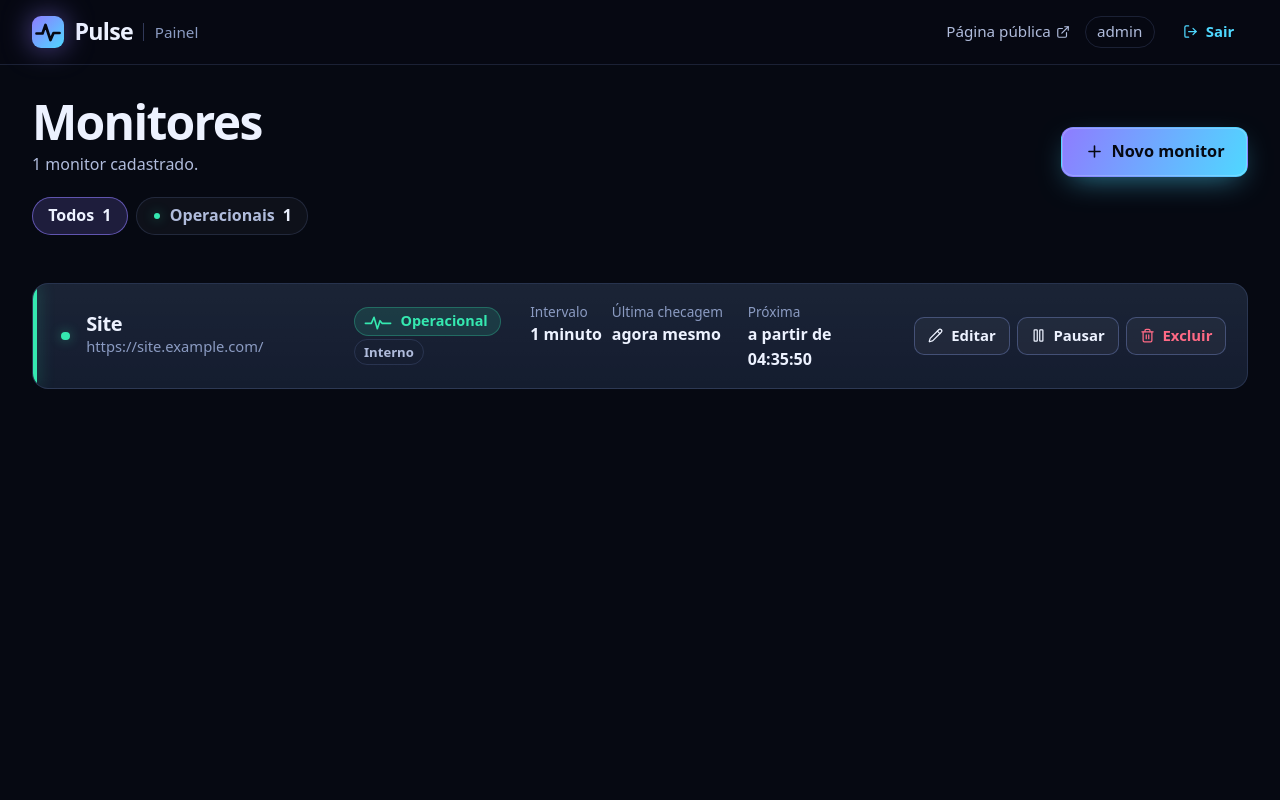
Test: cadastro e edição › edição mostra a opção refletindo o monitor e envia só publicVisible quando é só ela que muda
This screenshot has width=1280, height=800.
Check: the element "Site" is shown, box left=32, top=283, right=1248, bottom=389
Check: the text "Interno" is shown, box left=354, top=339, right=424, bottom=365
Click the button with aria-label "Editar Site" at (962, 336), box left=914, top=317, right=1010, bottom=355
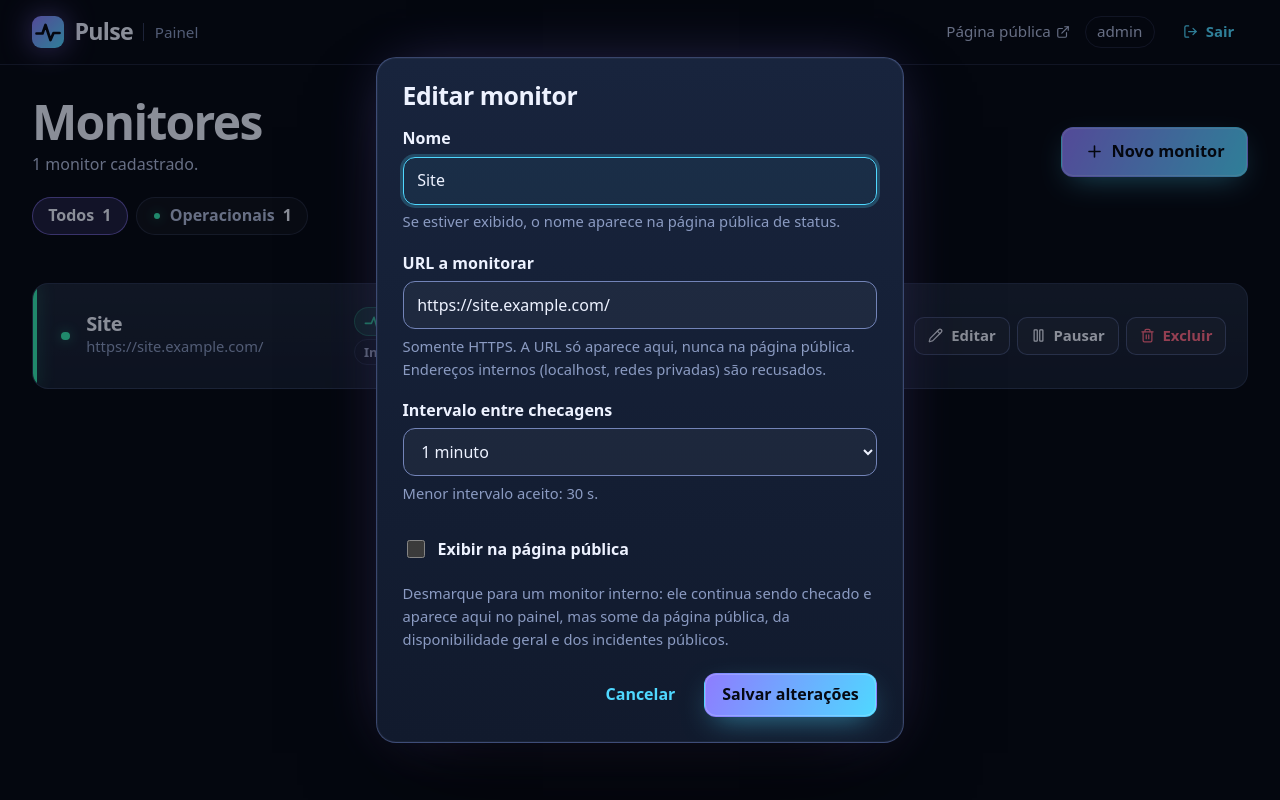
Check: the checkbox labelled "Exibir na página pública" is not checked
Click the checkbox labelled "Exibir na página pública" at (416, 550), box left=407, top=526, right=425, bottom=574
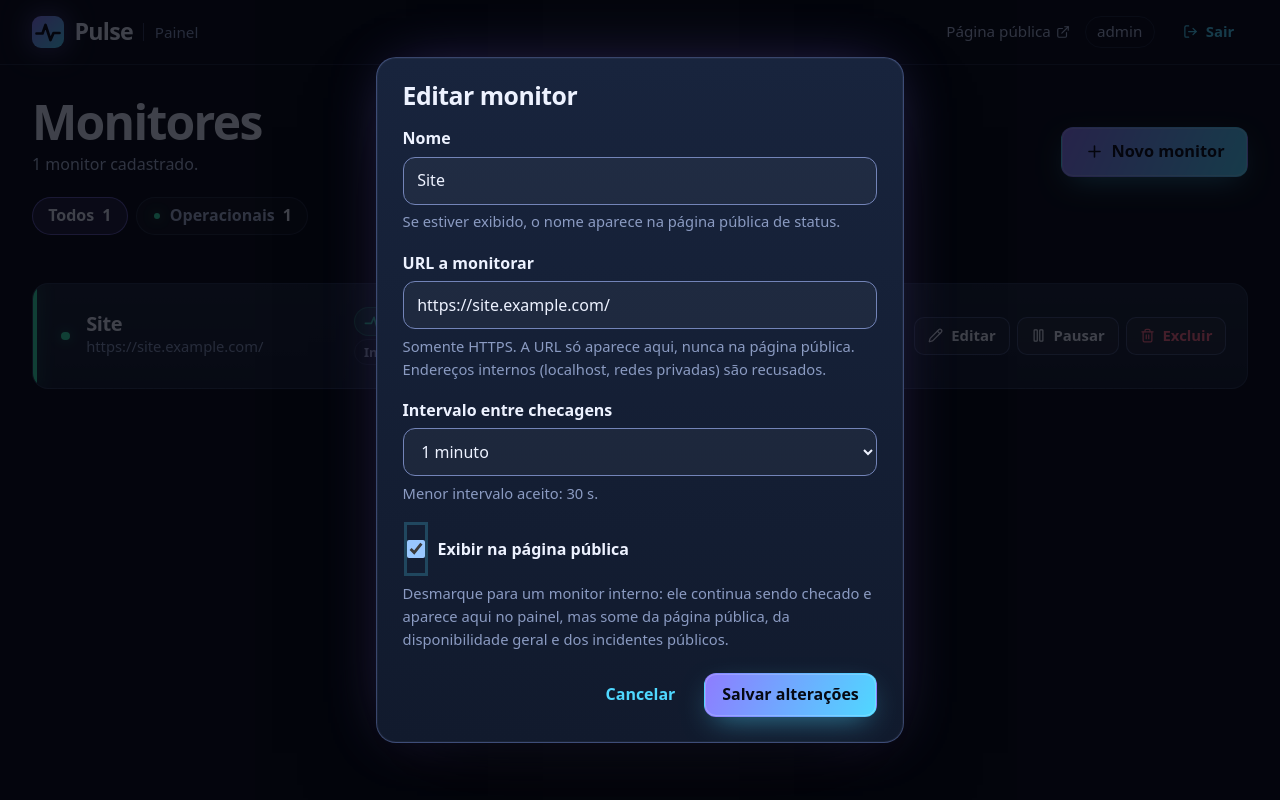
Click the button "Salvar alterações" at (790, 695), box left=704, top=673, right=877, bottom=717
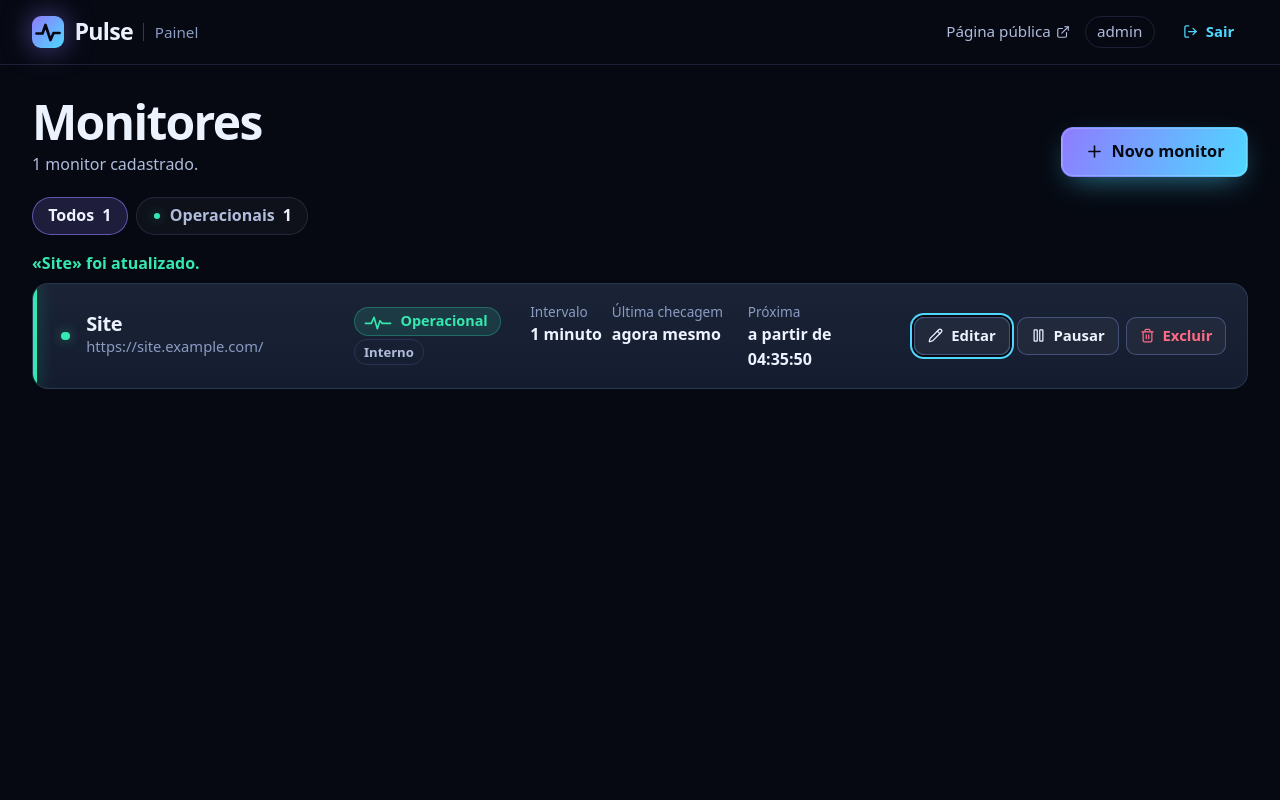
Check: the text "«Site» foi atualizado." is shown, box left=32, top=252, right=200, bottom=274
